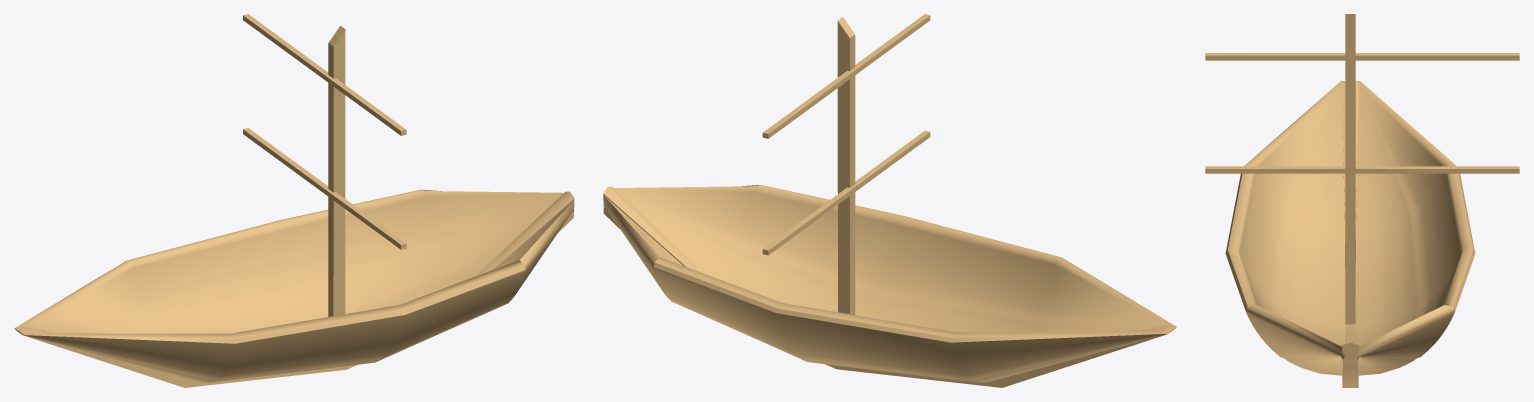
The model's file is barque2sanspostit.FBX.
The picture shows the model from 3 angles, left to right: view 1: azimuth 30°, elevation 25°; view 2: azimuth 150°, elevation 25°; view 3: azimuth 270°, elevation 25°; orthographic projection. The views are drawn at different scales.
Parts seen in each view (by area): view 1: Box001, Box004, Box005; view 2: Box001, Box005, Box004; view 3: Box001, Box005, Box004.
Boxes of the visible parts, box(x1,y1,x2,y2) form: Box001: box(14, 26, 574, 387); Box004: box(243, 14, 406, 135); Box005: box(243, 128, 406, 249); Box001: box(603, 17, 1176, 387); Box005: box(762, 130, 930, 255); Box004: box(762, 14, 930, 138); Box001: box(1225, 14, 1475, 387); Box005: box(1205, 166, 1519, 173); Box004: box(1205, 53, 1519, 60).
Bounding box in the file's own units: 167 × 98.54 × 83.24.
